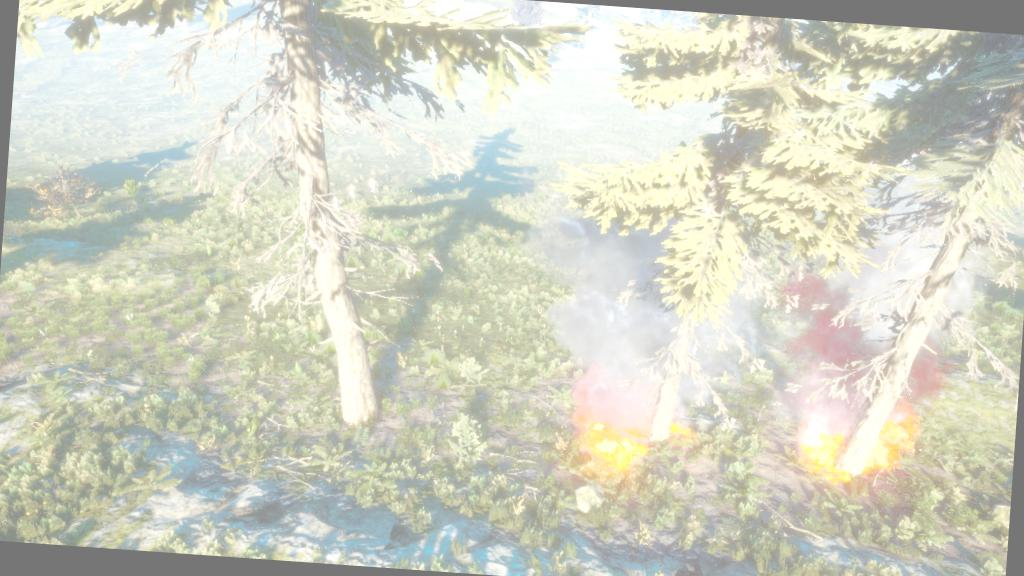Fire: (560, 392, 704, 488), (796, 396, 924, 493)
human: (360, 175, 386, 200), (342, 178, 360, 204)
smoke: (786, 171, 986, 452), (531, 199, 750, 421)
